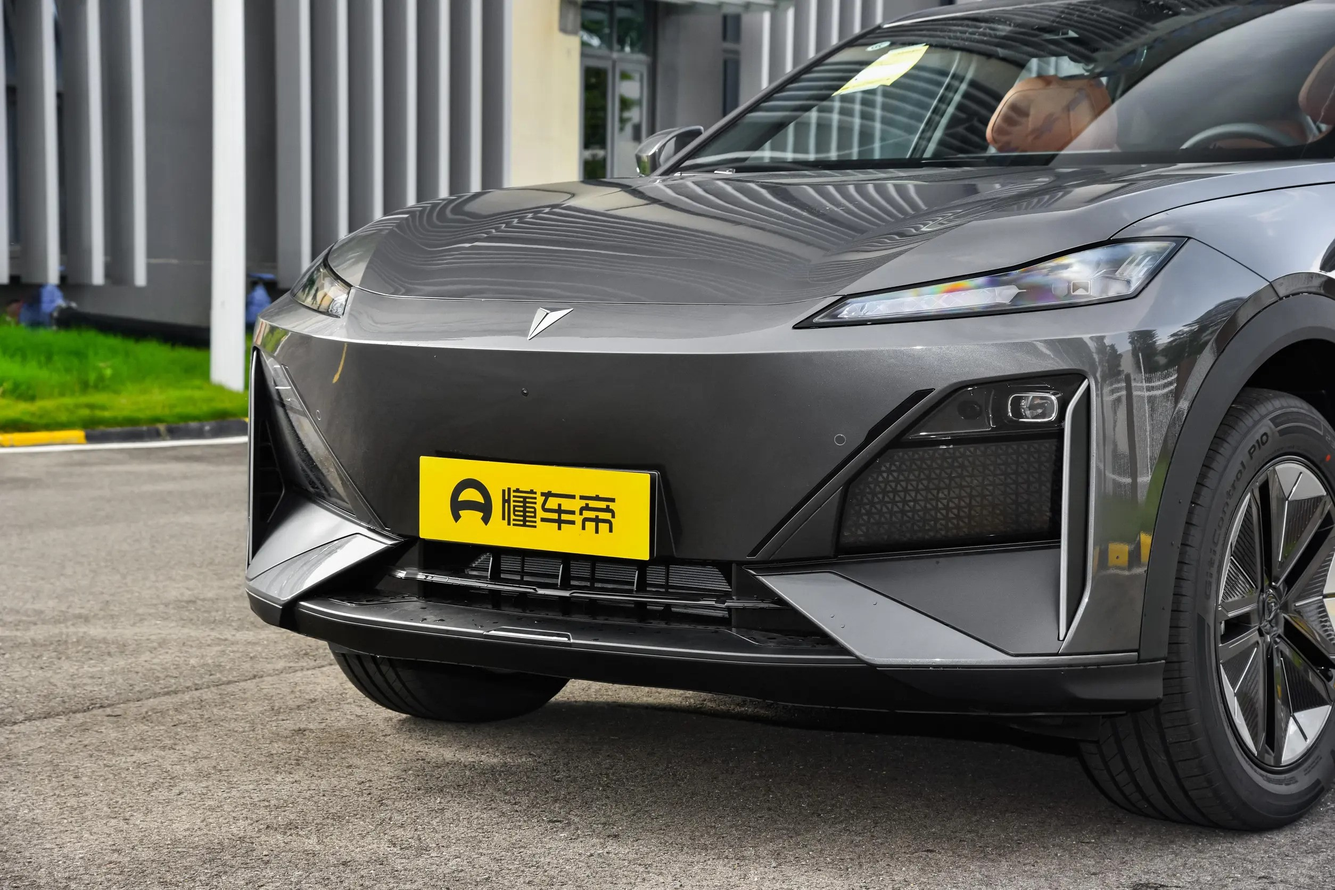Deepal: (528, 307, 573, 340)
